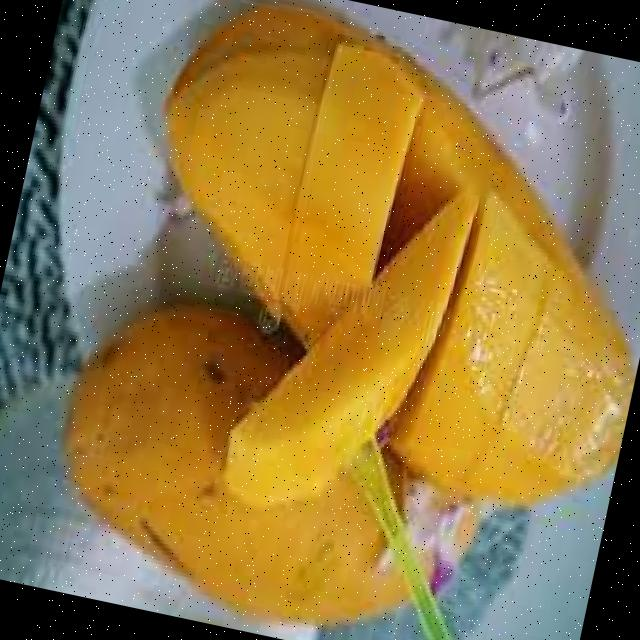mango: (164, 0, 637, 517), (225, 186, 477, 507)
